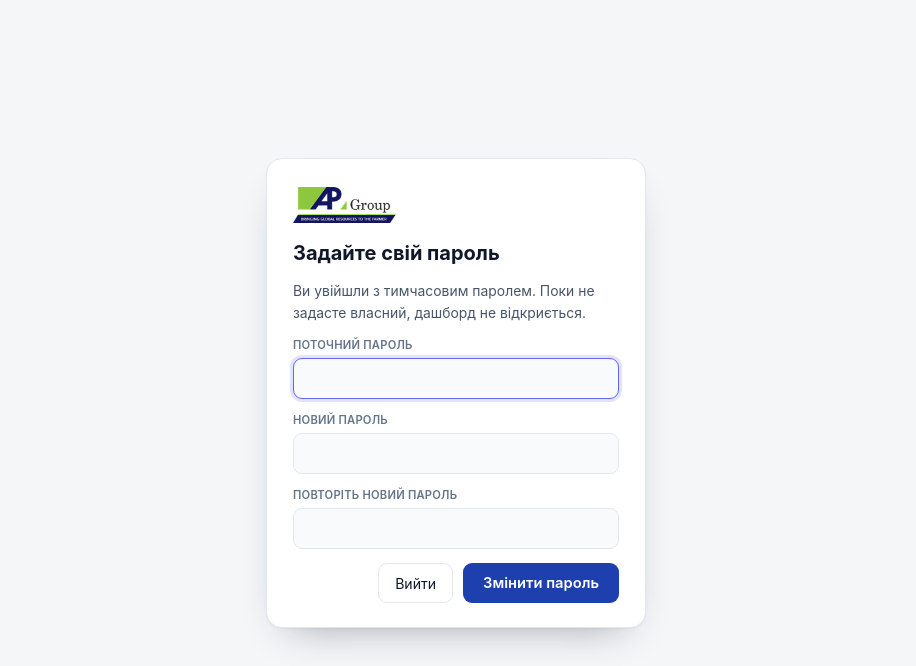
Test case: App session gate › shows nothing but the password form to admin/admin until the password changes
expect the heading "Задайте свій пароль" is shown: met, box [293, 241, 500, 265]
expect the text "Облікові записи" is not shown: met
Type "admin" into the password field labelled "Поточний пароль".
click(456, 379); type("admin")  # box [293, 358, 619, 399]
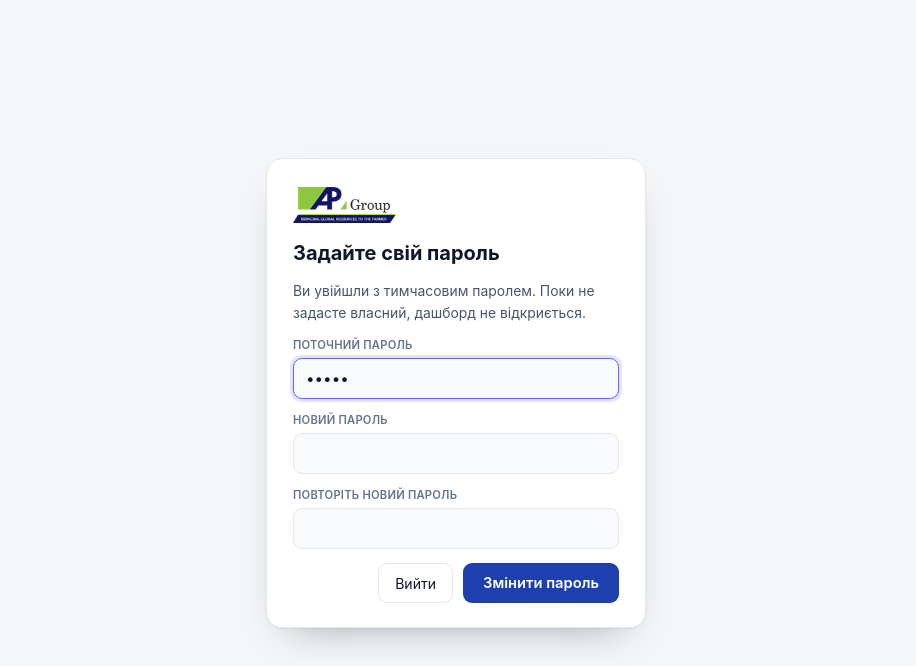
Type "a proper passphrase" into the password field labelled "Новий пароль".
click(456, 454); type("a proper passphrase")  # box [293, 433, 619, 474]
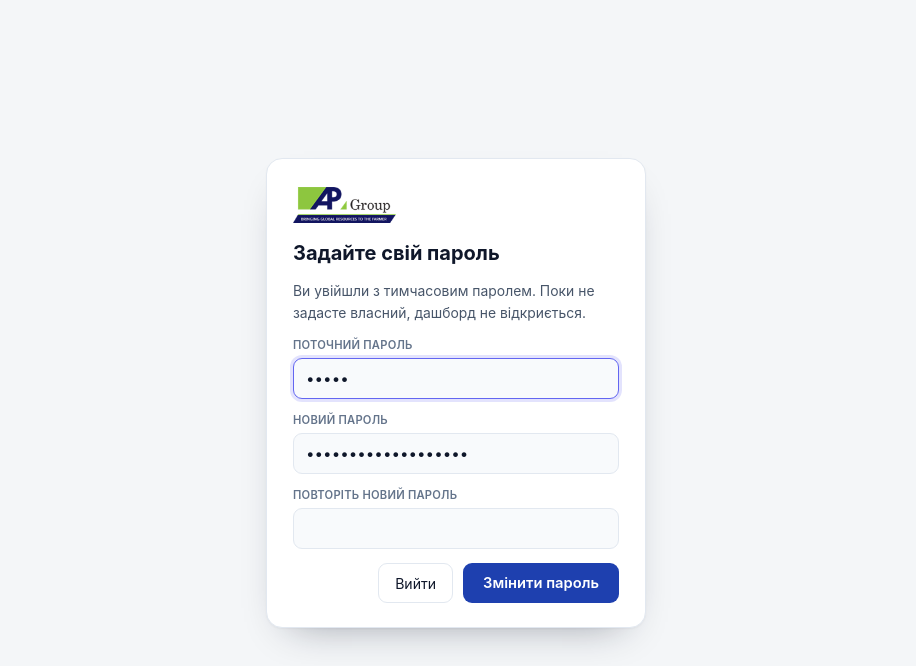
Type "a proper passphrase" into the password field labelled "Повторіть новий пароль".
click(456, 529); type("a proper passphrase")  # box [293, 508, 619, 549]
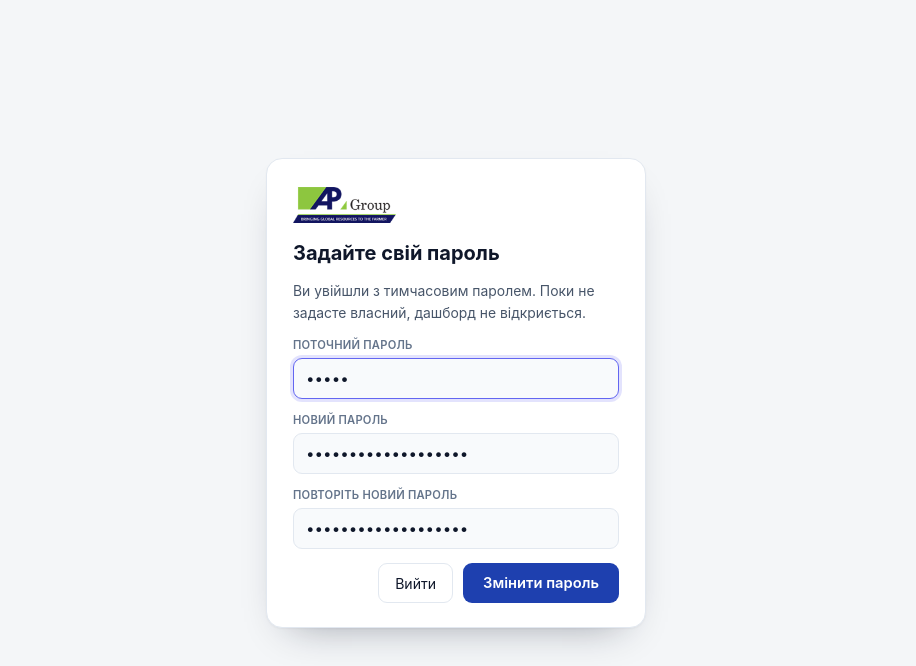
Click the button "Змінити пароль".
click(541, 583)  # box [463, 563, 619, 603]
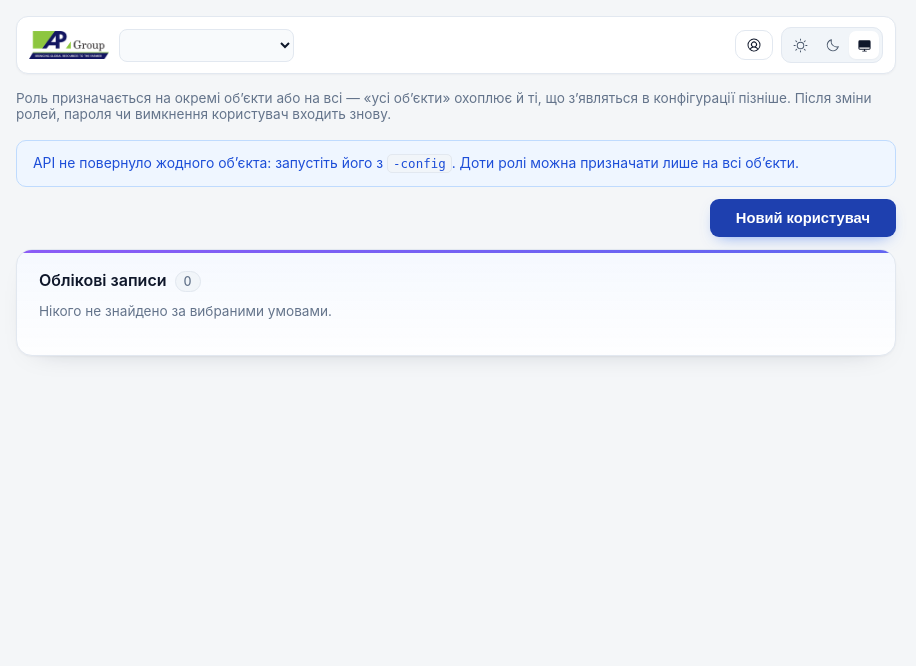
expect the heading "Облікові записи0" is shown: met, box [39, 270, 201, 290]
